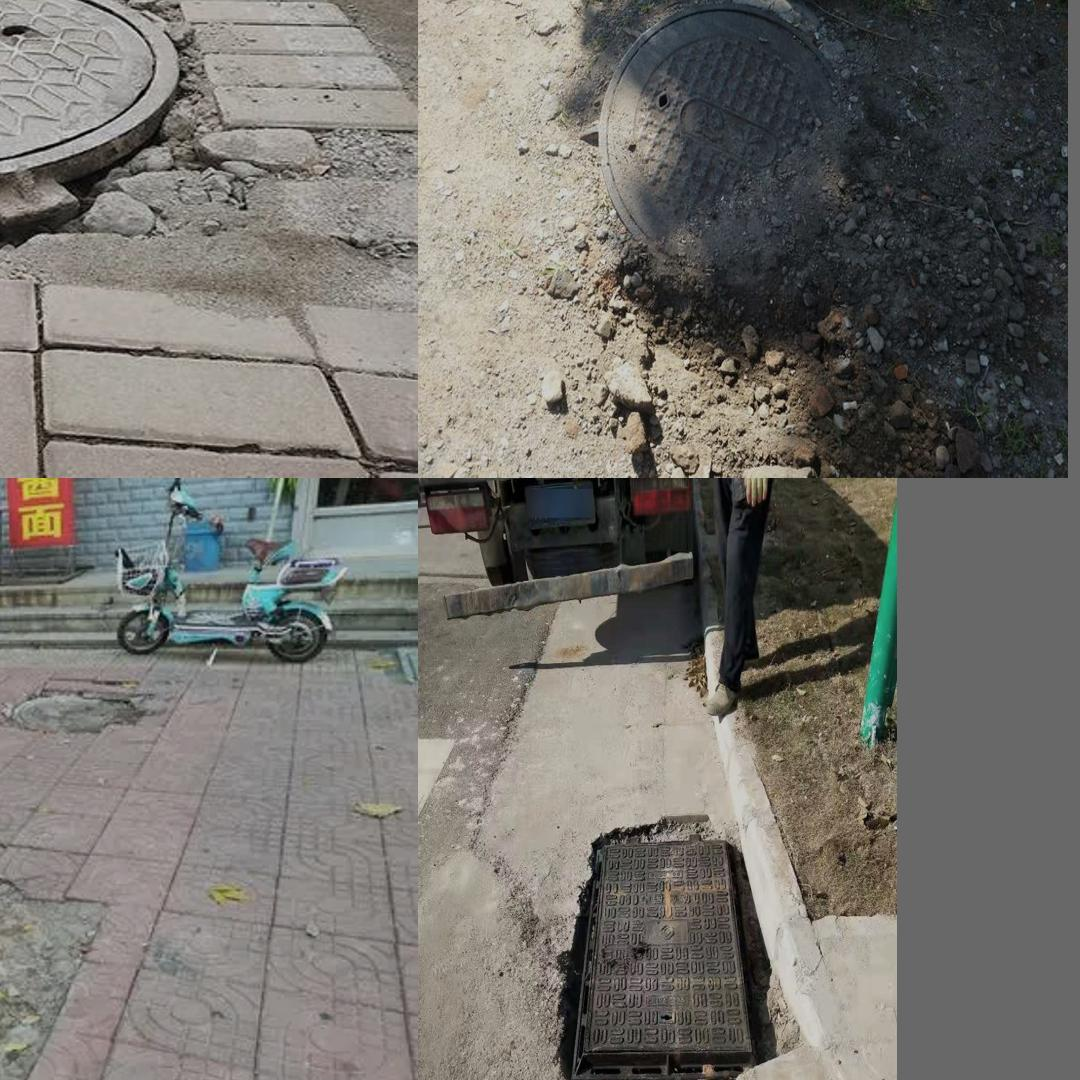circle: (534, 0, 909, 321), (0, 0, 318, 276), (557, 826, 780, 1080), (0, 844, 85, 1080)
